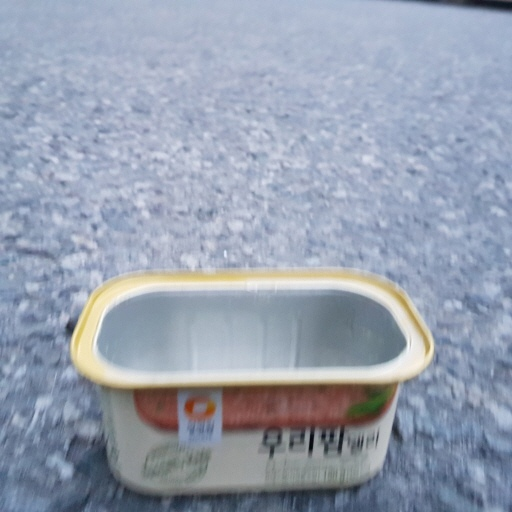Metal_2: (70, 271, 437, 494)
